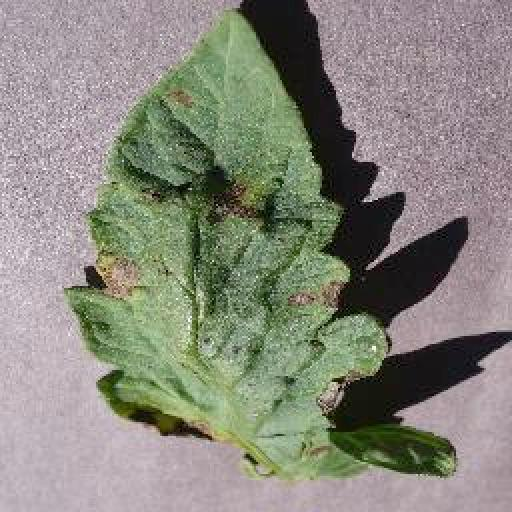disease_tomato: (71, 10, 459, 484)
